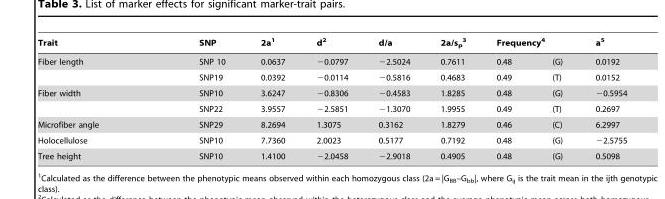table: (37, 36, 626, 160)
table column: (37, 36, 148, 160), (148, 36, 242, 160), (300, 36, 362, 160), (362, 36, 424, 160), (242, 36, 300, 160), (424, 36, 480, 160), (480, 36, 531, 160), (578, 36, 626, 160), (531, 36, 578, 160)
table column header: (37, 36, 626, 69)
table row: (37, 52, 626, 69), (37, 36, 626, 52), (37, 69, 626, 85), (37, 100, 626, 116), (37, 116, 626, 132), (37, 132, 626, 148), (37, 85, 626, 100), (37, 148, 626, 160)
table spanning cell: (37, 36, 148, 69), (37, 85, 148, 116), (148, 36, 242, 69), (300, 36, 362, 69), (362, 36, 424, 69), (242, 36, 300, 69), (424, 36, 480, 69), (578, 36, 626, 69), (480, 36, 578, 52)
